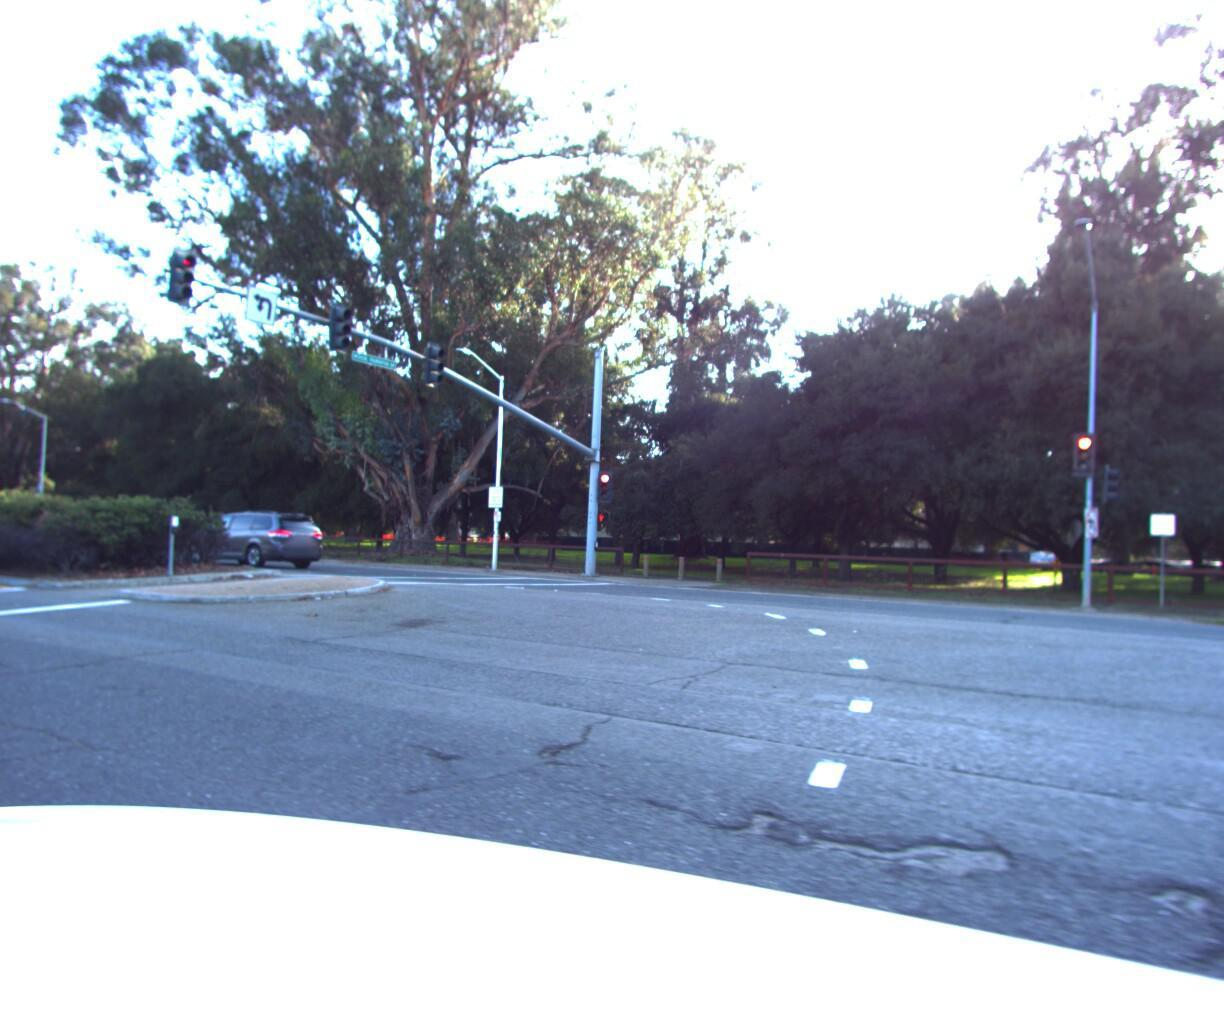car: (174, 504, 331, 573)
